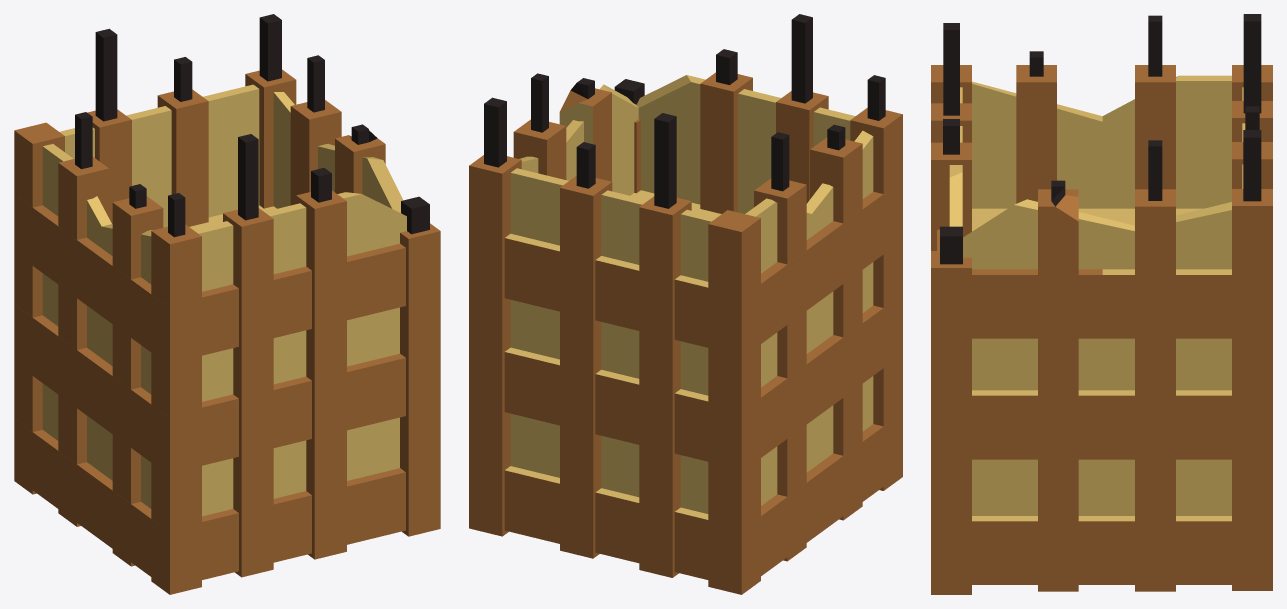
Rendered from DestroyedBuilding.glb.
3 views of the same model, side by side, from view 1: azimuth 30°, elevation 25°; view 2: azimuth 150°, elevation 25°; view 3: azimuth 270°, elevation 25° (orthographic). The views are drawn at different scales.
Visible parts, largest first — view 1: building_; view 2: building_; view 3: building_.
Boxes of the visible parts, bbox=[...] form: building_: bbox=[14, 14, 440, 594]; building_: bbox=[469, 14, 902, 594]; building_: bbox=[931, 14, 1272, 594].
Bounding box in the file's own units: 5.91 × 9.05 × 5.88.
